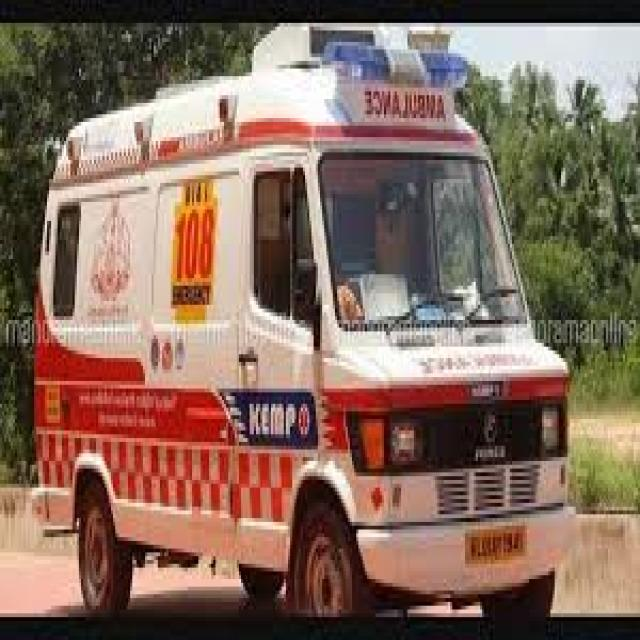Ambulance: (13, 19, 582, 640)
